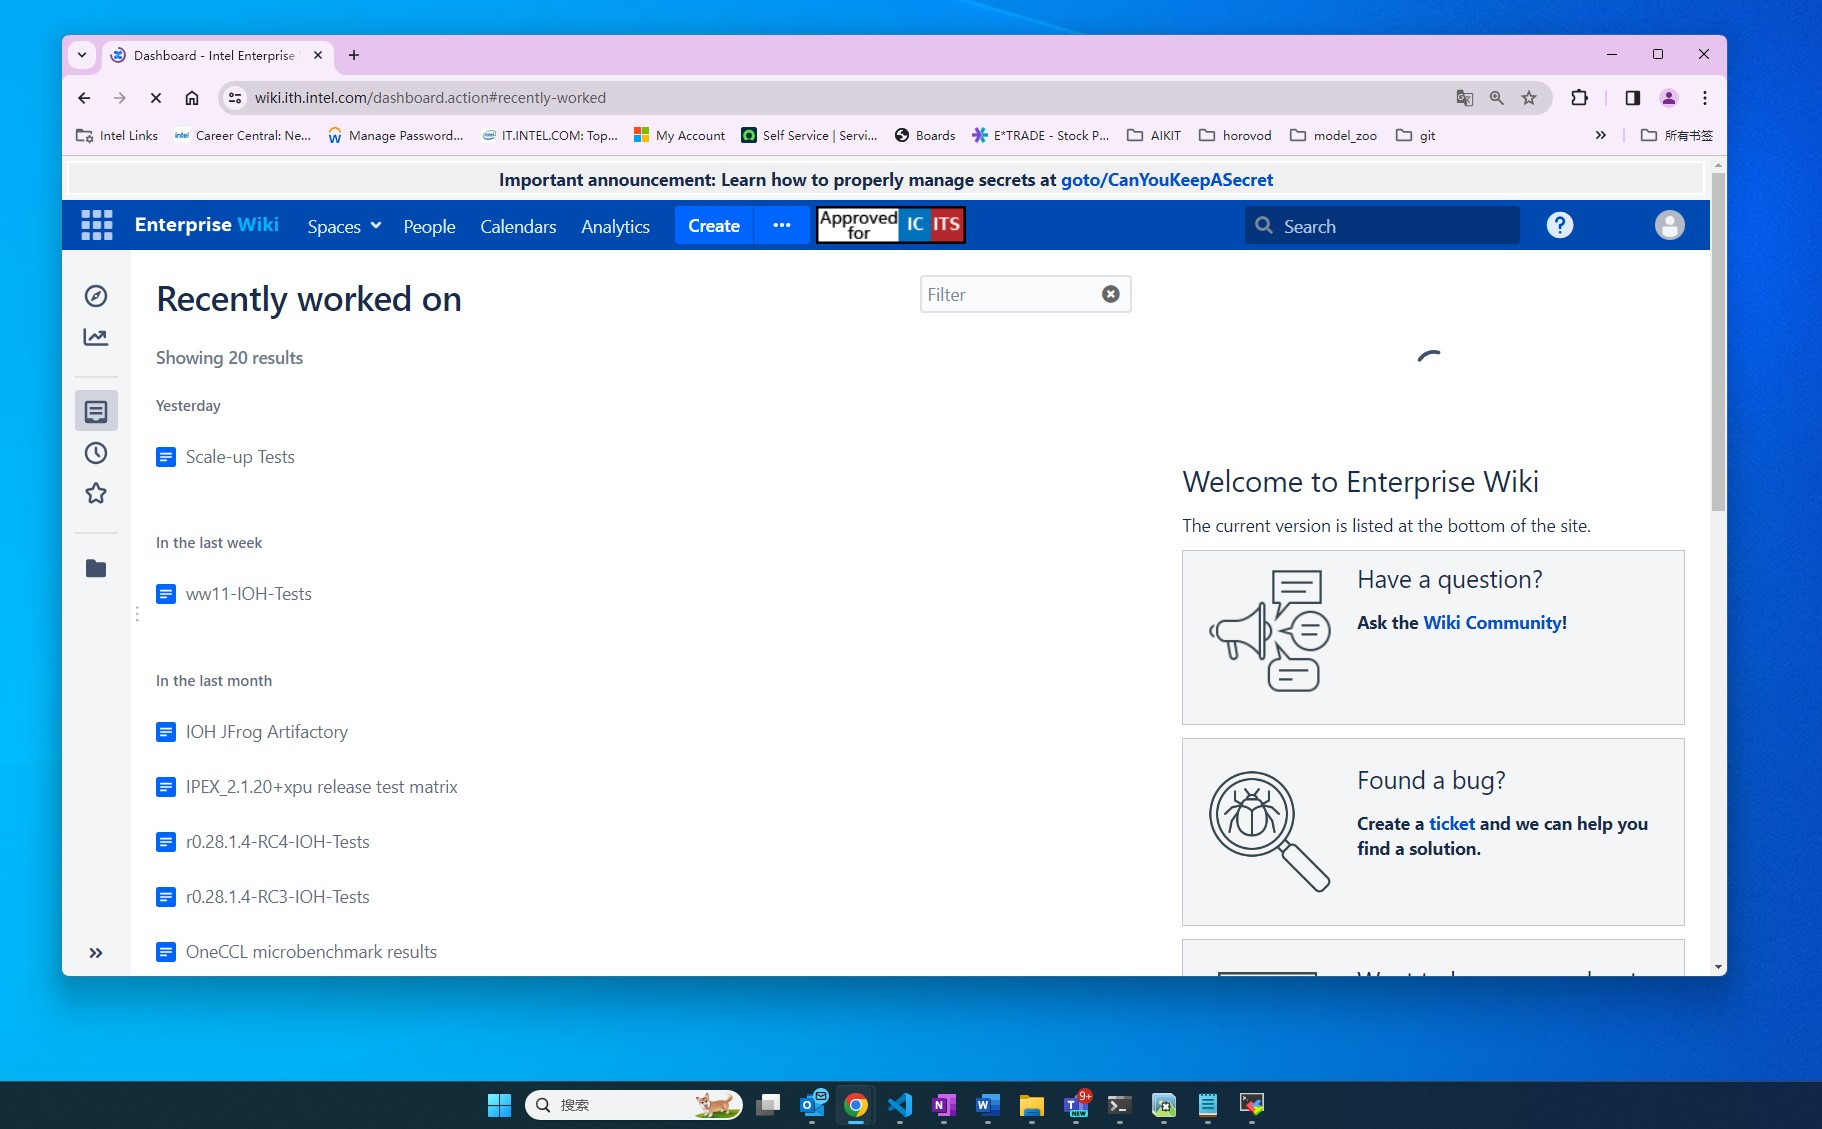button_create: (677, 206, 757, 250)
search_box: (1244, 206, 1529, 248), (523, 1086, 742, 1122)
start_bar: (485, 1087, 515, 1121)
